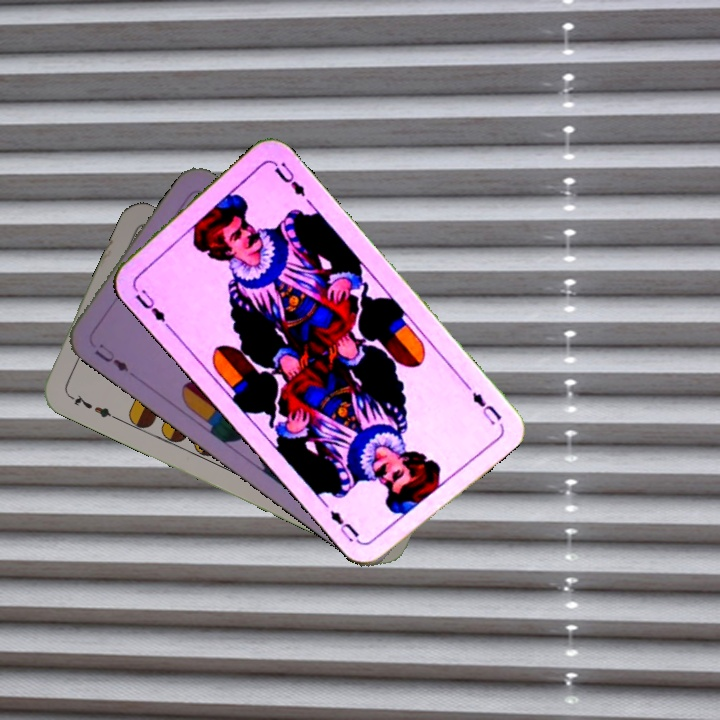E7: (63, 389, 119, 422)
EU: (129, 281, 173, 331), (468, 387, 505, 428), (90, 339, 131, 374)
